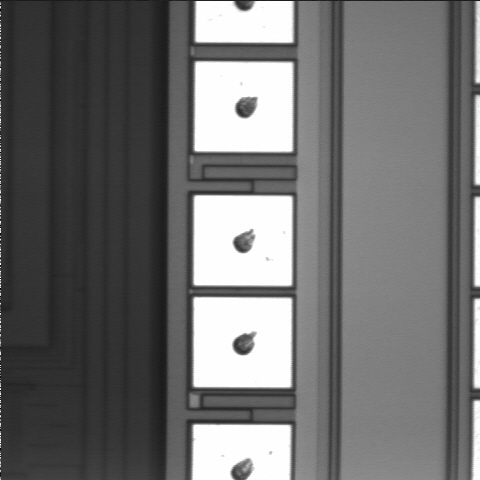pad: (194, 195, 292, 286), (195, 62, 293, 152), (194, 297, 292, 387)
